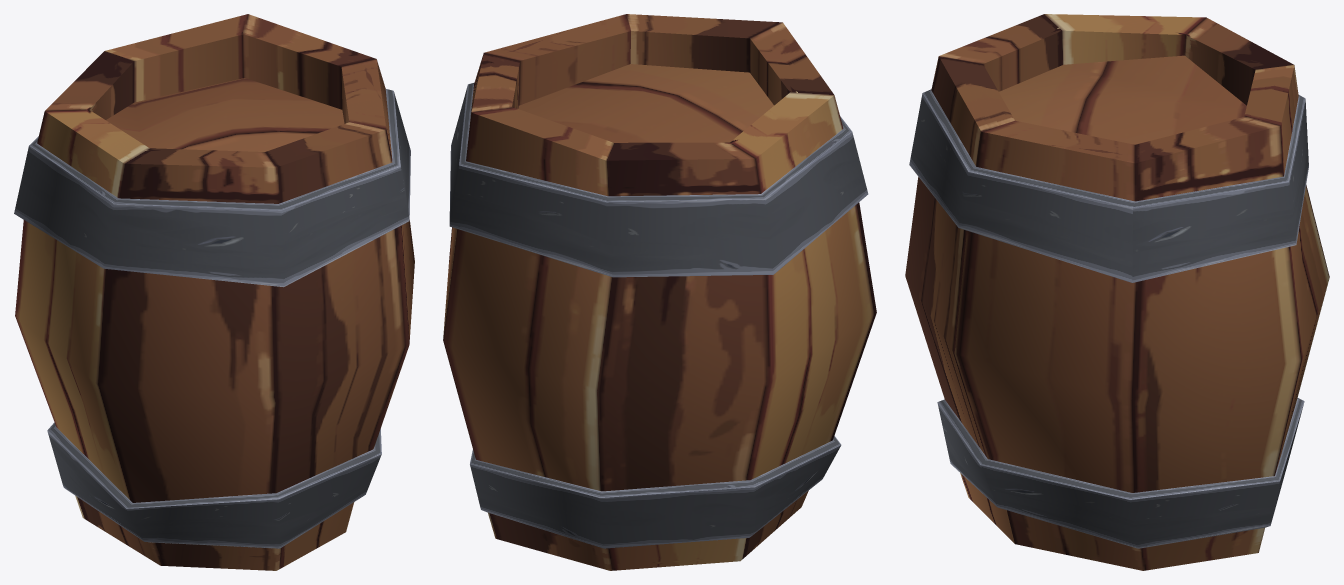
File: Barril_02.fbx
The picture shows the model from 3 angles, left to right: view 1: azimuth 30°, elevation 25°; view 2: azimuth 150°, elevation 25°; view 3: azimuth 270°, elevation 25°; orthographic projection. The views are drawn at different scales.
Parts seen in each view (by area): view 1: Barril_02; view 2: Barril_02; view 3: Barril_02.
Part boxes in pixels (x1=…): Barril_02: x1=14, y1=14, x2=414, y2=570; Barril_02: x1=443, y1=14, x2=876, y2=570; Barril_02: x1=905, y1=14, x2=1329, y2=570.
Bounding box in the file's own units: 77.06 × 84.39 × 74.86.
